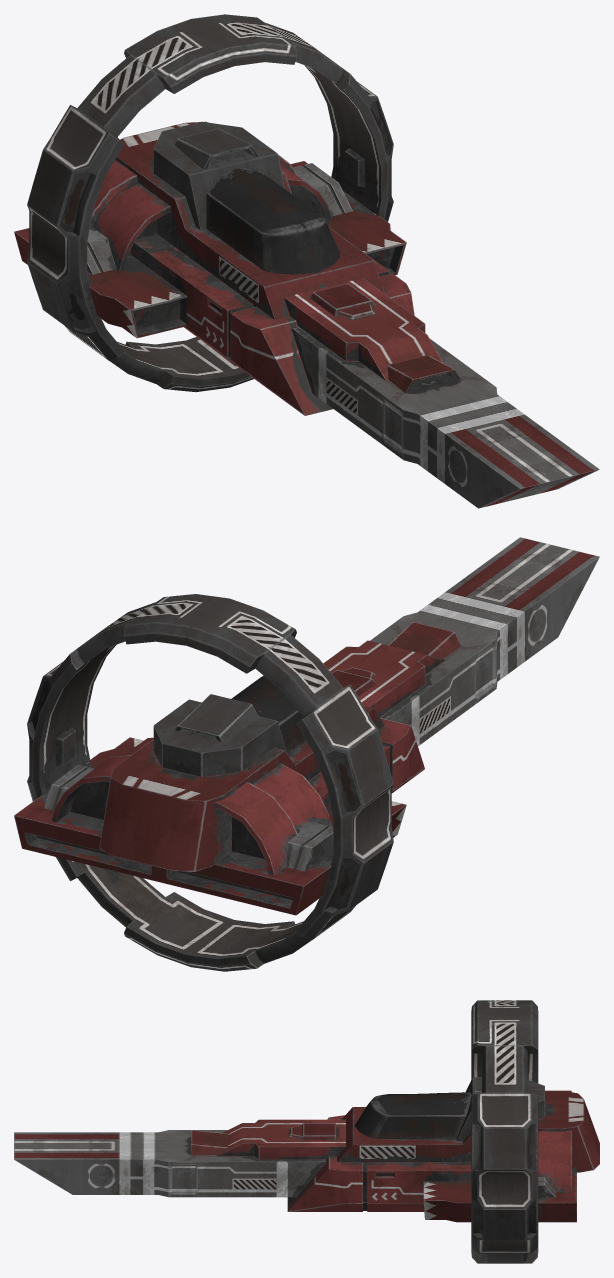
Rendered from Zenith.glb.
The picture shows the model from 3 angles, top to bottom: view 1: azimuth 30°, elevation 25°; view 2: azimuth 150°, elevation 25°; view 3: azimuth 270°, elevation 25°; orthographic projection. The views are drawn at different scales.
Visible parts, largest first — view 1: Zenith_Cube.016; view 2: Zenith_Cube.016; view 3: Zenith_Cube.016.
Part boxes in pixels (box(x1,y1,x2,y2)): Zenith_Cube.016: box(14, 14, 599, 508); Zenith_Cube.016: box(14, 537, 599, 971); Zenith_Cube.016: box(14, 1000, 599, 1263).
Size of the model in its own units: 5.63 by 5.43 by 12.07.
Materials: 1 (1 with a texture image).
